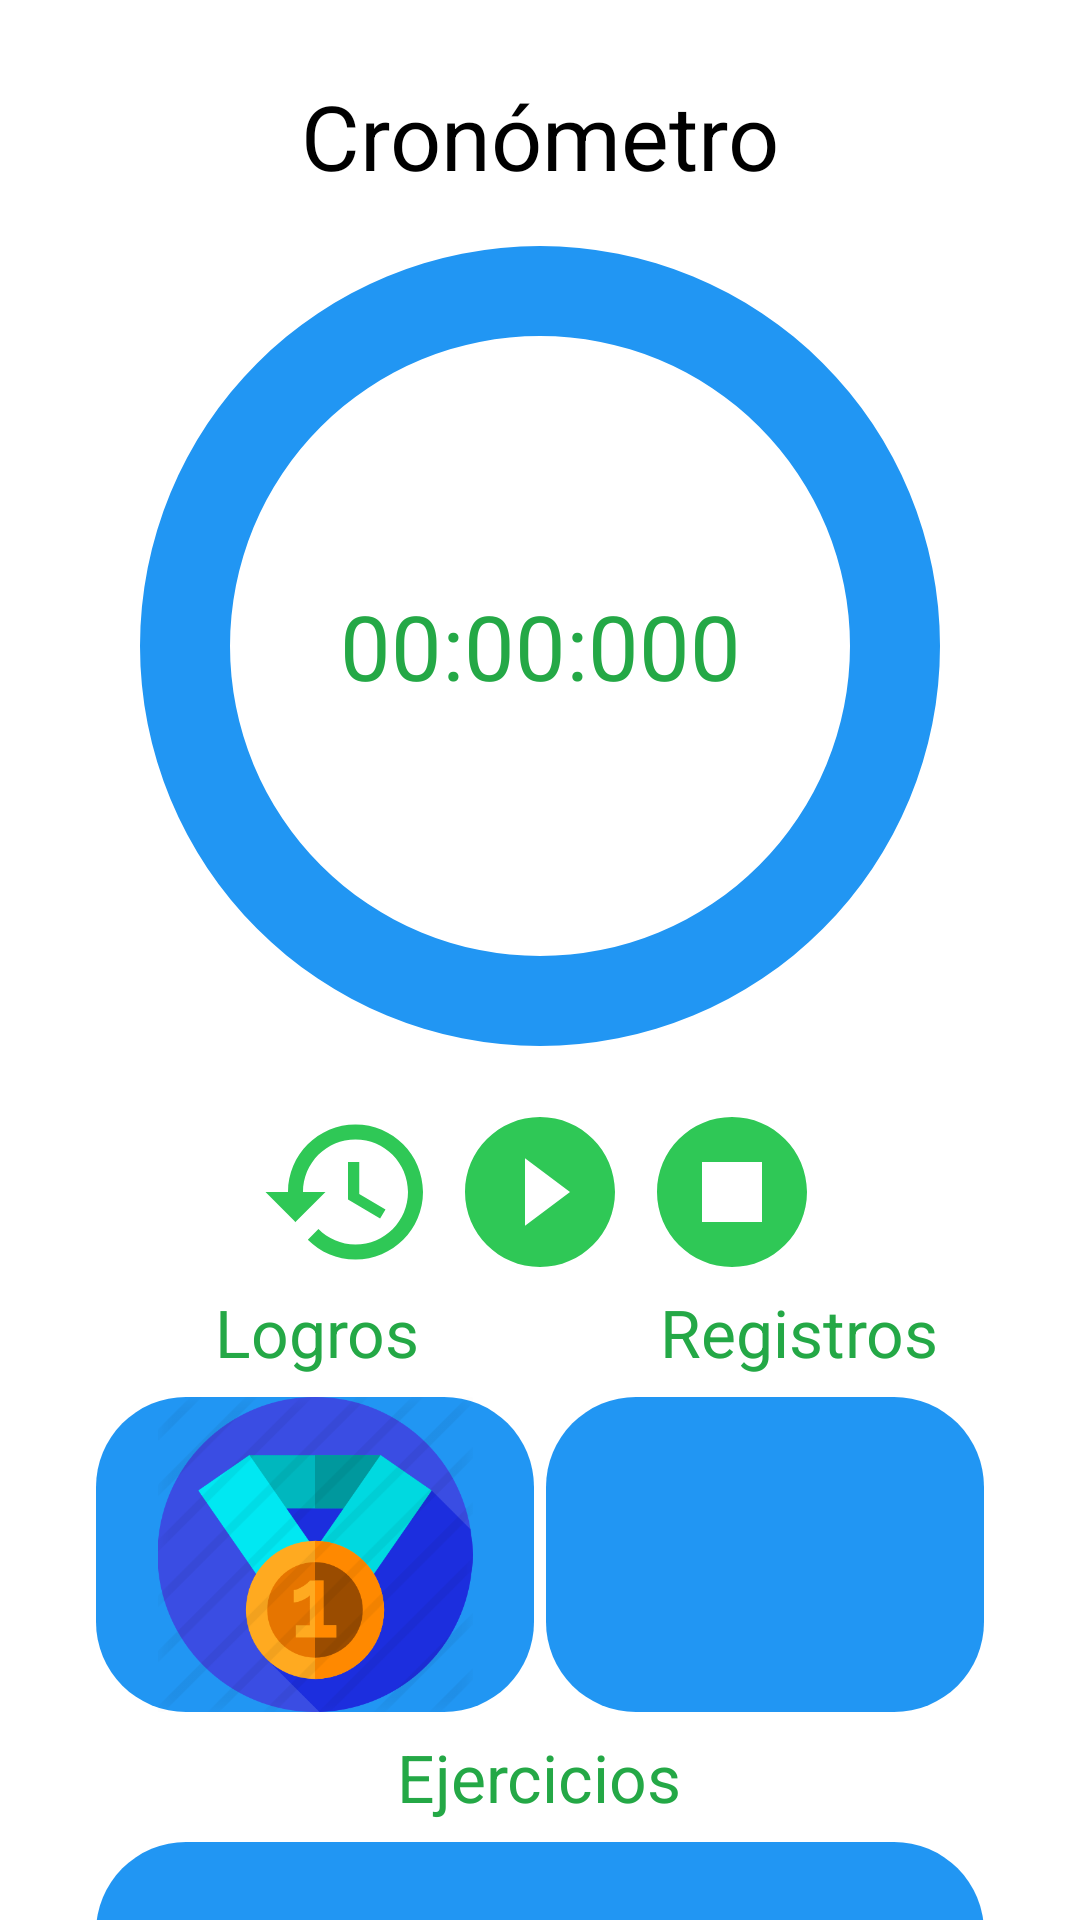

Icons on this 1080px×1920px Android screen, each with its box as (x1, y1, x2, y2):
play: (465, 1117, 615, 1267)
repeat: (265, 1124, 423, 1260)
stop: (657, 1117, 807, 1267)
